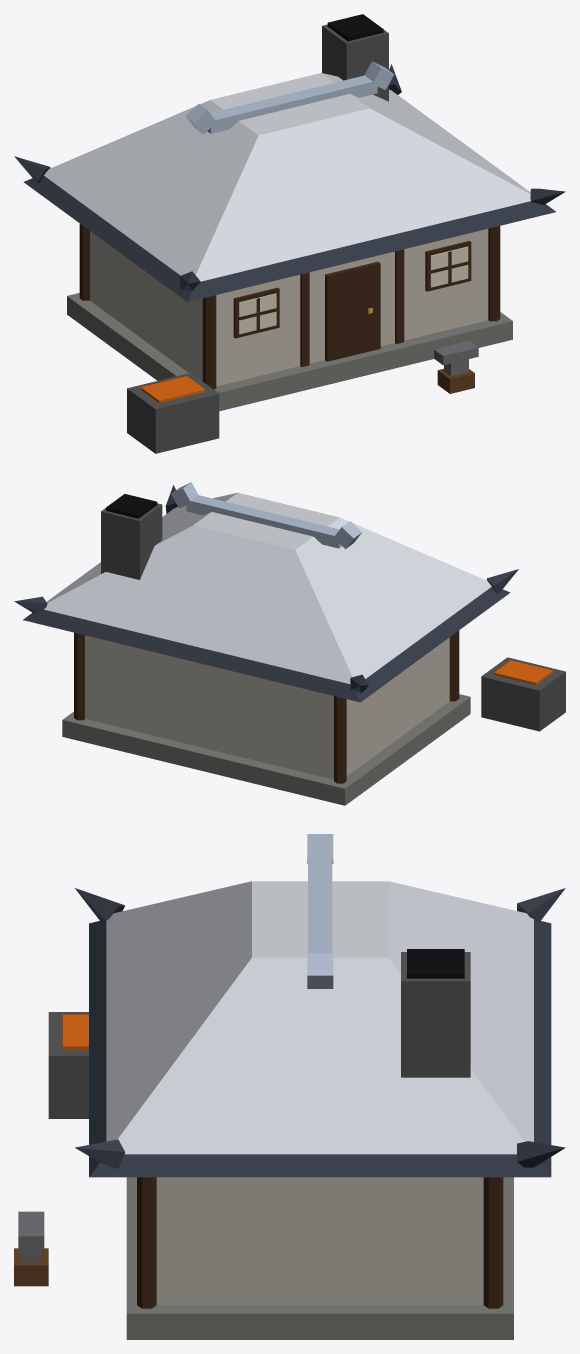
Rendered from SM_GZ_blacksmith_frost.fbx.
3 renders of one model, top to bottom at view 1: azimuth 30°, elevation 25°; view 2: azimuth 150°, elevation 25°; view 3: azimuth 270°, elevation 25°, orthographic. The views are drawn at different scales.
Visible parts, largest first — view 1: SM_GZ_blacksmith_frost; view 2: SM_GZ_blacksmith_frost; view 3: SM_GZ_blacksmith_frost.
Boxes of the visible parts, x1,y1,x2,y2 form: SM_GZ_blacksmith_frost: [14, 14, 565, 453]; SM_GZ_blacksmith_frost: [14, 482, 565, 805]; SM_GZ_blacksmith_frost: [14, 834, 565, 1339].
Bounding box in the file's own units: 1182 × 660 × 955.
